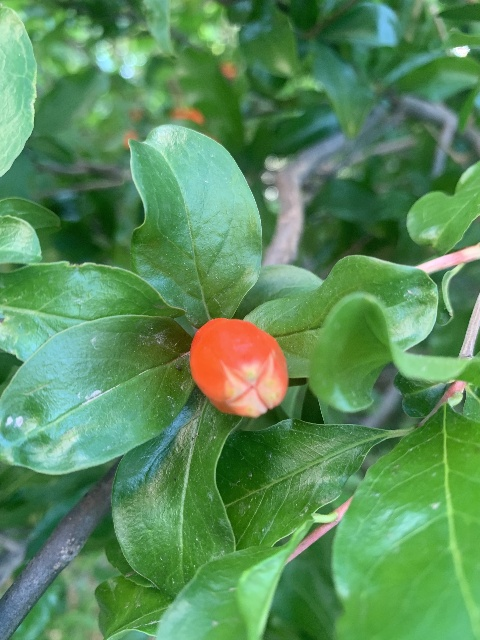bud: (189, 317, 288, 418)
